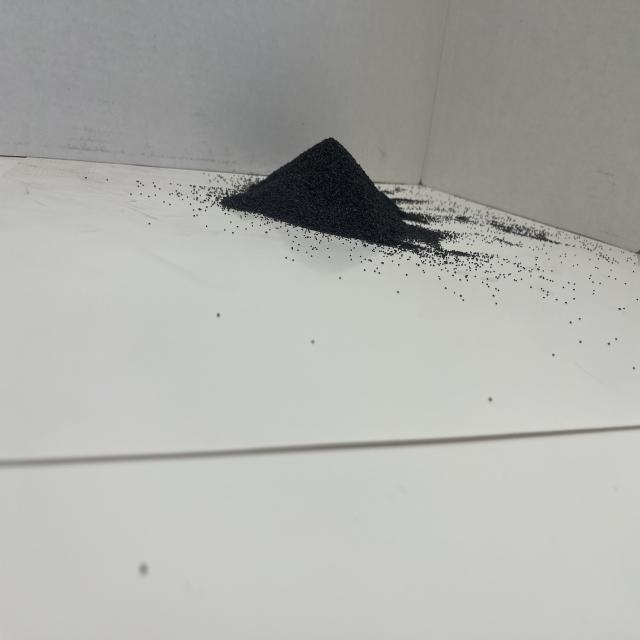Poppy Seeds: (217, 123, 457, 278)
